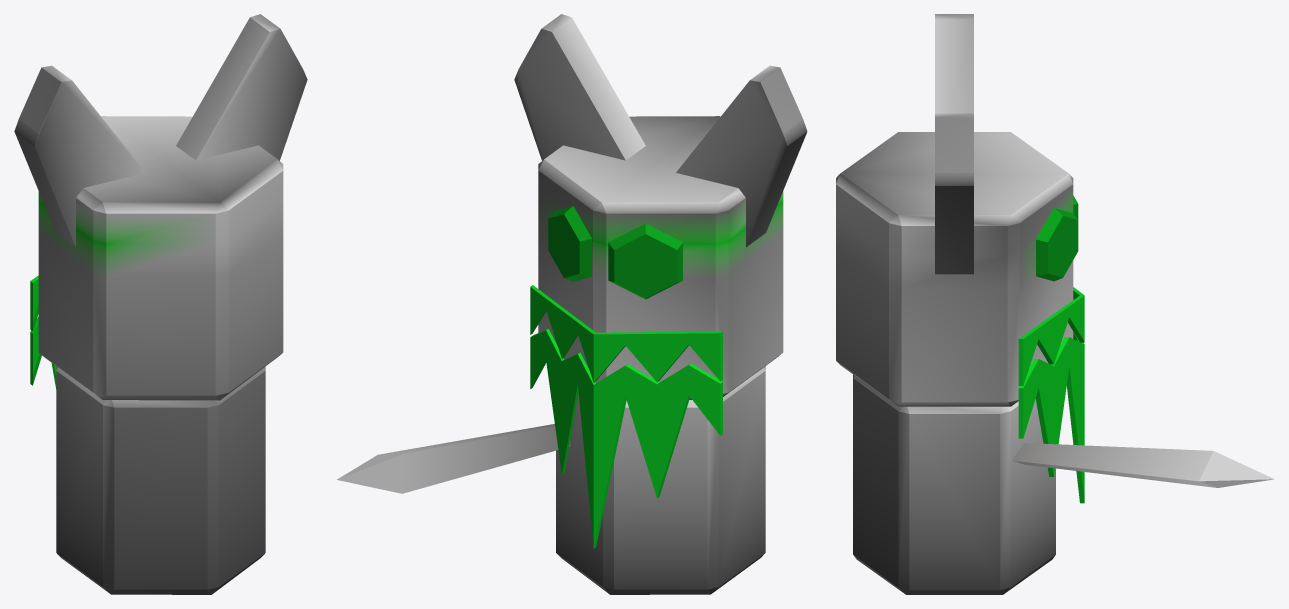
File: Builder_Green.FBX
The picture shows the model from 3 angles, left to right: view 1: azimuth 30°, elevation 25°; view 2: azimuth 150°, elevation 25°; view 3: azimuth 270°, elevation 25°; orthographic projection. The views are drawn at different scales.
Parts seen in each view (by area): view 1: Builder_Green; view 2: Builder_Green; view 3: Builder_Green.
Boxes of the visible parts, <box> form: Builder_Green: <box>14,14,307,594</box>; Builder_Green: <box>337,14,807,594</box>; Builder_Green: <box>836,14,1274,594</box>.
Bounding box in the file's own units: 156 × 258 × 208.
